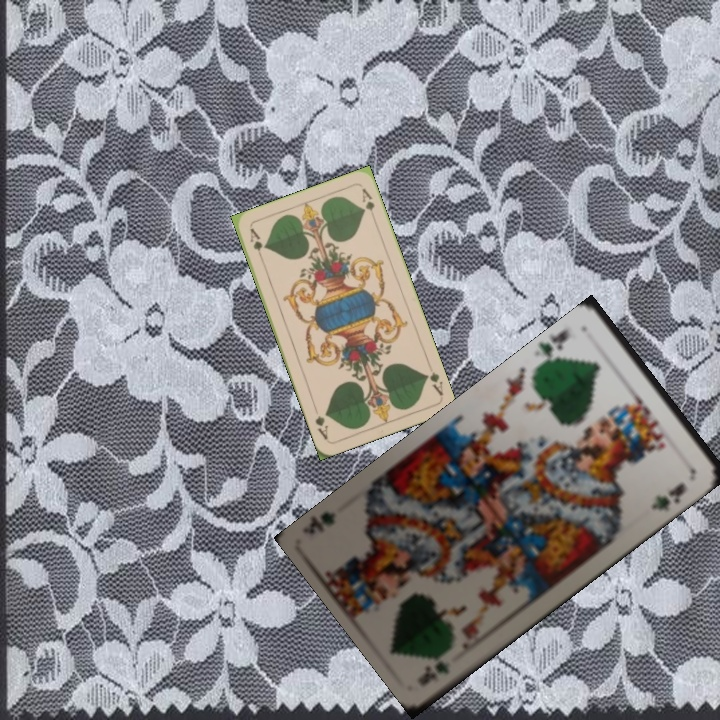GA: (246, 224, 266, 264), (421, 368, 446, 398)
GK: (536, 325, 572, 368), (424, 657, 453, 684)
